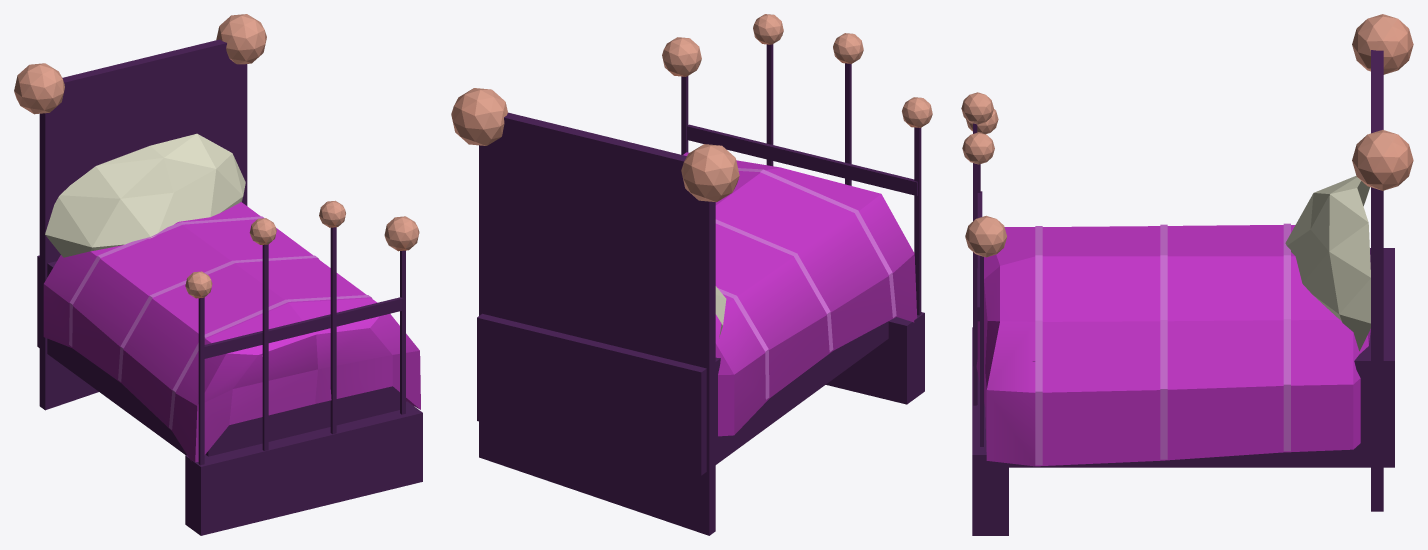
The model's file is bed.fbx.
3 views of the same model, side by side, from view 1: azimuth 30°, elevation 25°; view 2: azimuth 150°, elevation 25°; view 3: azimuth 270°, elevation 25° (orthographic). The views are drawn at different scales.
Visible parts, largest first — view 1: bed; view 2: bed; view 3: bed.
Boxes of the visible parts, box(x1,y1,x2,y2) form: bed: box(14, 14, 422, 535); bed: box(451, 14, 932, 535); bed: box(961, 14, 1413, 535).
Size of the model in its own units: 1.58 by 2.1 by 2.14.
